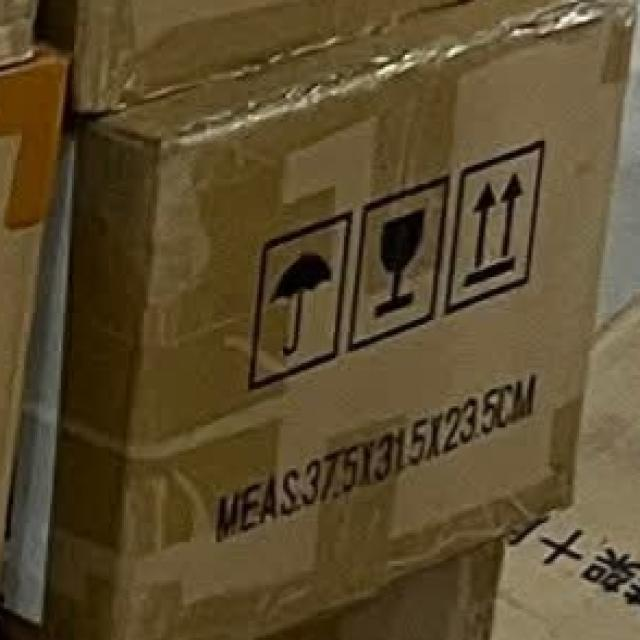carton_box: (15, 5, 637, 626)
fragile_label: (359, 179, 444, 344)
keep_dry_label: (250, 206, 350, 396)
this_side_up_label: (456, 150, 540, 308)
